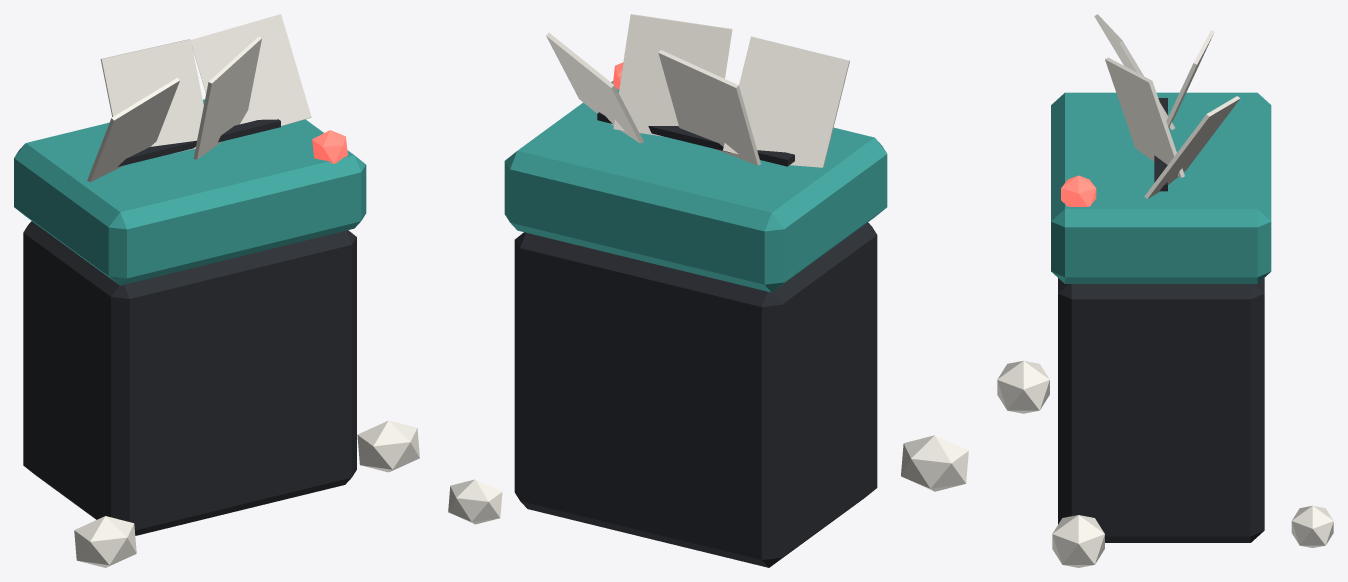
The model's file is shredder_p1_3.glb.
The picture shows the model from 3 angles, left to right: view 1: azimuth 30°, elevation 25°; view 2: azimuth 150°, elevation 25°; view 3: azimuth 270°, elevation 25°; orthographic projection. The views are drawn at different scales.
Visible parts, largest first — view 1: shredder_p1_3_mesh; view 2: shredder_p1_3_mesh; view 3: shredder_p1_3_mesh.
Part boxes in pixels (x1,y1,x2,y2): shredder_p1_3_mesh: (14, 14, 419, 567); shredder_p1_3_mesh: (448, 14, 968, 567); shredder_p1_3_mesh: (997, 14, 1333, 567).
Bounding box in the file's own units: 0.6284 × 0.706 × 0.4889.
